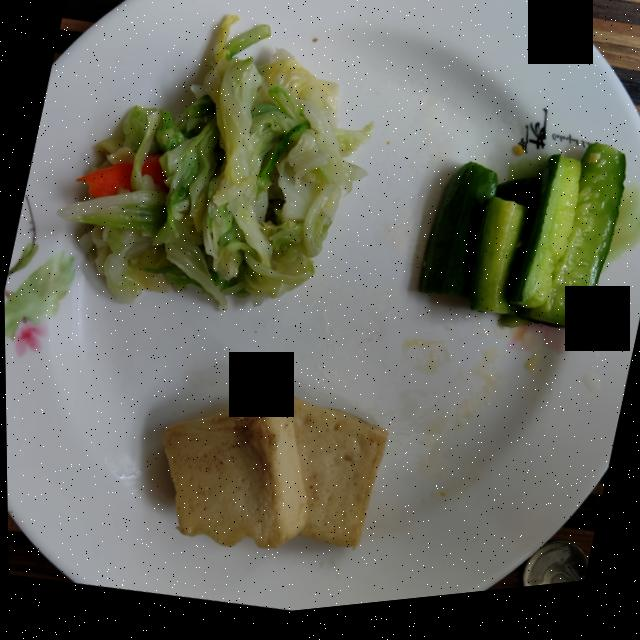cabbage: (56, 20, 370, 312)
coin: (519, 552, 585, 598)
creamy tofu -without sauce-: (160, 401, 385, 554)
cucumber: (417, 156, 624, 341)
